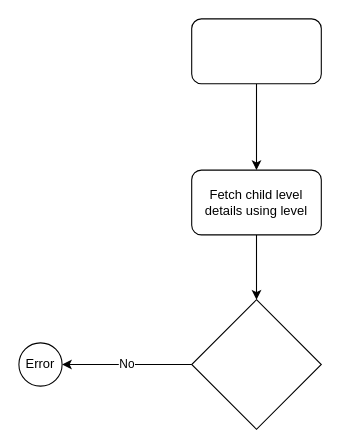
This 340x448 diagram has some shape labels left out. The shapes that lost their labels are listed below. From the top down, each one's box as (x1, y1, x2, y2) in pixels, then its label:
(191, 18, 321, 84): Fetch level details
(191, 299, 321, 429): Are destinations unique?
